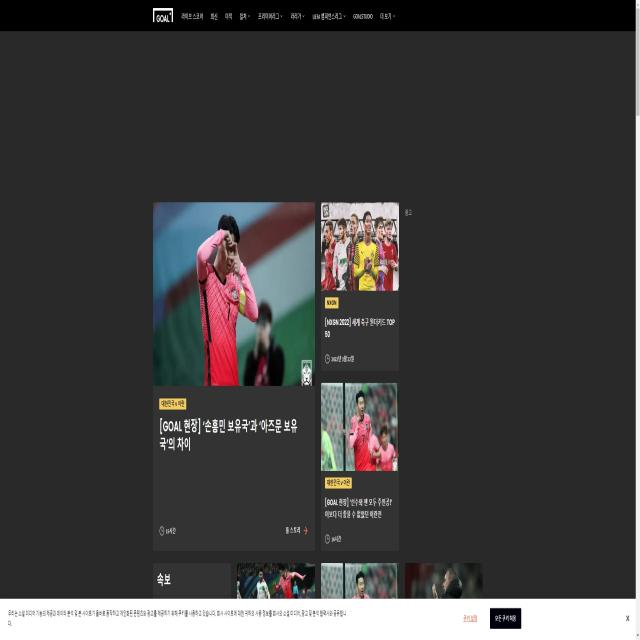menu-bar: (180, 4, 396, 27)
